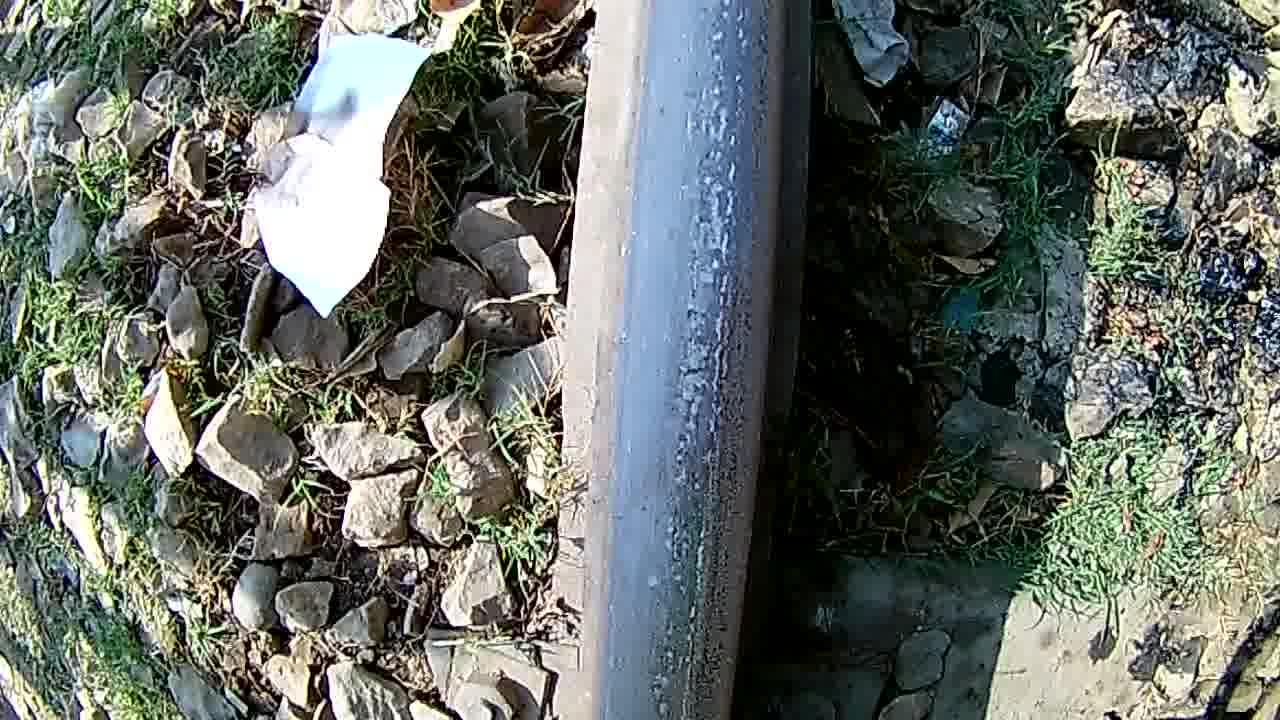clip_missing: (627, 0, 763, 714)
